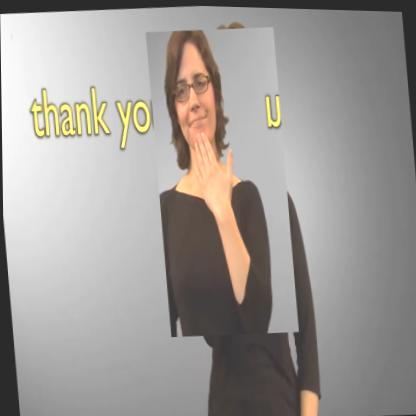ThankYou: (146, 22, 298, 339)
